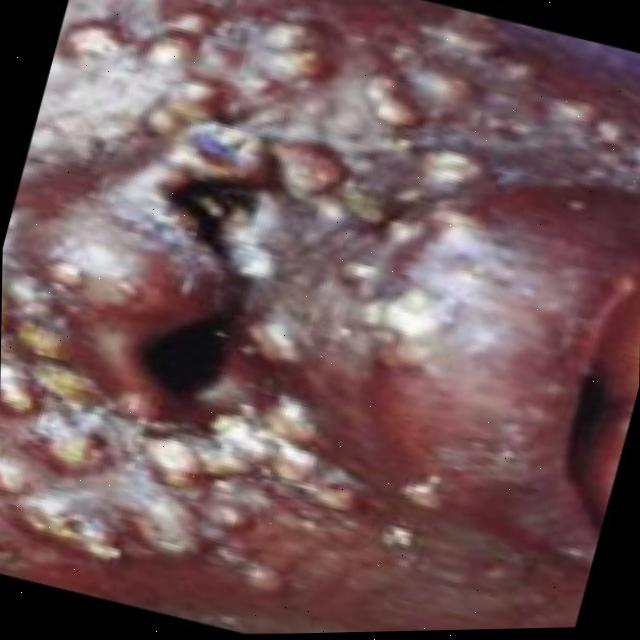Eczema: (0, 4, 621, 592)
